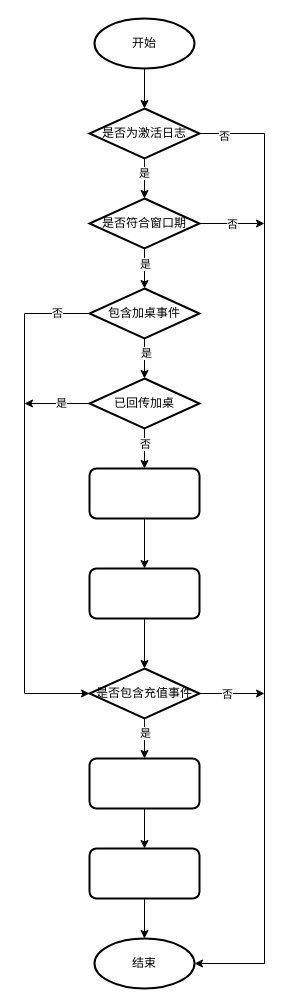
This 290x1006 diagram has some shape labels left out. The shapes that lost their labels are listed below. From the top down, each one's centre as x and y in pixels, then its label:
At point (144, 493): "回传加桌".
At point (144, 593): "保存加桌事件日志".
At point (144, 783): "回传充值".
At point (144, 873): "保存日志".
